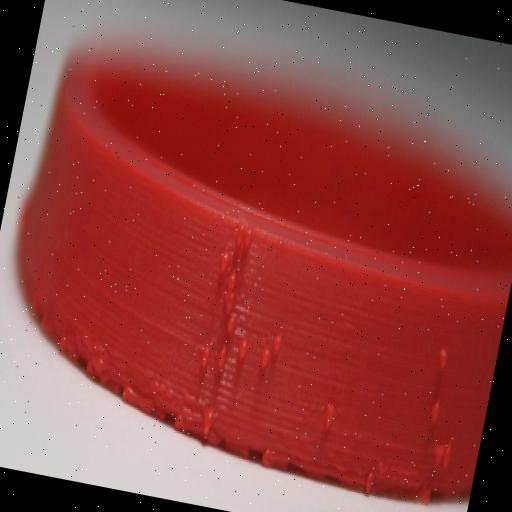blobs: (23, 282, 186, 427), (191, 211, 294, 435), (420, 325, 463, 489), (324, 388, 345, 450), (359, 461, 384, 498)
